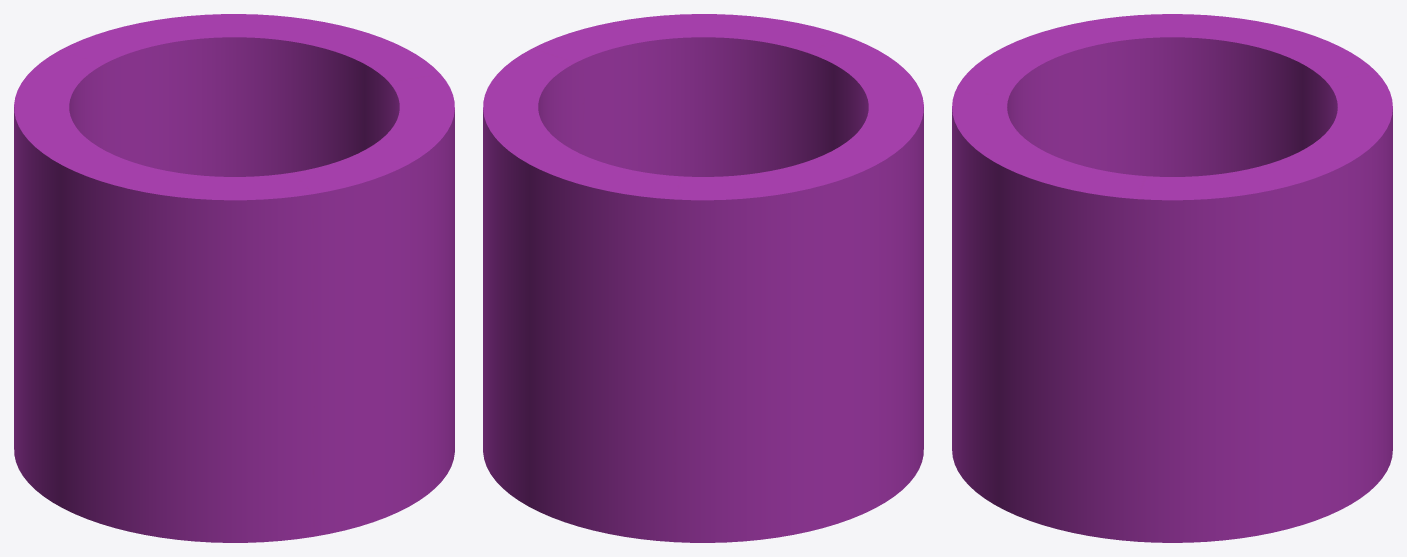
The model's file is tubo.fbx.
The picture shows the model from 3 angles, left to right: view 1: azimuth 30°, elevation 25°; view 2: azimuth 150°, elevation 25°; view 3: azimuth 270°, elevation 25°; orthographic projection.
Visible parts, largest first — view 1: root; view 2: root; view 3: root.
Part boxes in pixels (x1,y1,x2,y2): root: [14, 14, 454, 542]; root: [483, 14, 923, 542]; root: [952, 14, 1392, 542].
Size of the model in its own units: 0.2386 by 0.2046 by 0.2386.
1 material, 1 textured.
